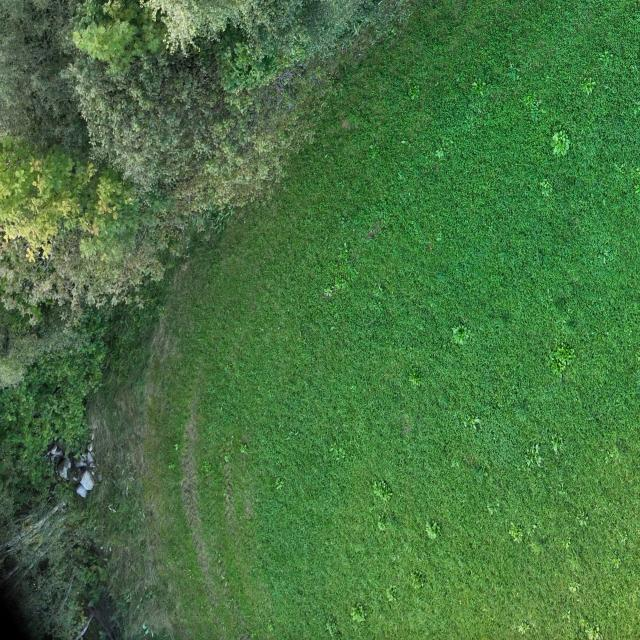rumex: (207, 437, 254, 475), (370, 476, 398, 539), (613, 156, 640, 190), (524, 442, 544, 471), (322, 278, 347, 300), (324, 612, 344, 638), (372, 478, 393, 502), (330, 442, 348, 465), (408, 568, 426, 591), (349, 603, 367, 626), (523, 91, 541, 113), (550, 433, 566, 456), (462, 413, 481, 431), (584, 622, 603, 640), (508, 522, 524, 543), (581, 76, 597, 96), (424, 520, 440, 540), (433, 142, 448, 162), (408, 370, 423, 389), (385, 584, 399, 604), (470, 79, 486, 96), (408, 85, 421, 102), (517, 620, 531, 635), (568, 581, 580, 594), (274, 476, 284, 491), (267, 619, 275, 633), (203, 461, 212, 473), (552, 132, 560, 144), (323, 288, 332, 298), (223, 454, 230, 463), (168, 462, 175, 470), (174, 443, 179, 451)
